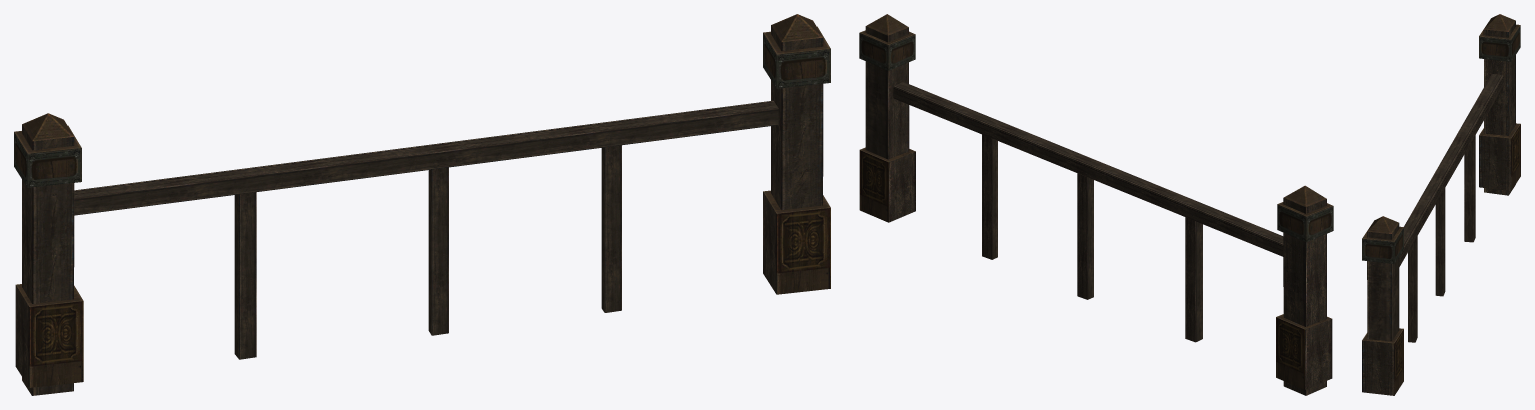
The model's file is rail_crack05.glb.
3 renders of one model, left to right at view 1: azimuth 30°, elevation 25°; view 2: azimuth 150°, elevation 25°; view 3: azimuth 270°, elevation 25°, orthographic. The views are drawn at different scales.
Visible parts, largest first — view 1: ship_rail_05; view 2: ship_rail_05; view 3: ship_rail_05.
Part boxes in pixels (bbox=[...]): ship_rail_05: bbox=[14, 14, 830, 395]; ship_rail_05: bbox=[859, 14, 1333, 395]; ship_rail_05: bbox=[1362, 14, 1520, 395].
Bounding box in the file's own units: 9.61 × 3.57 × 2.88.
Materials: 3 (3 with a texture image).
